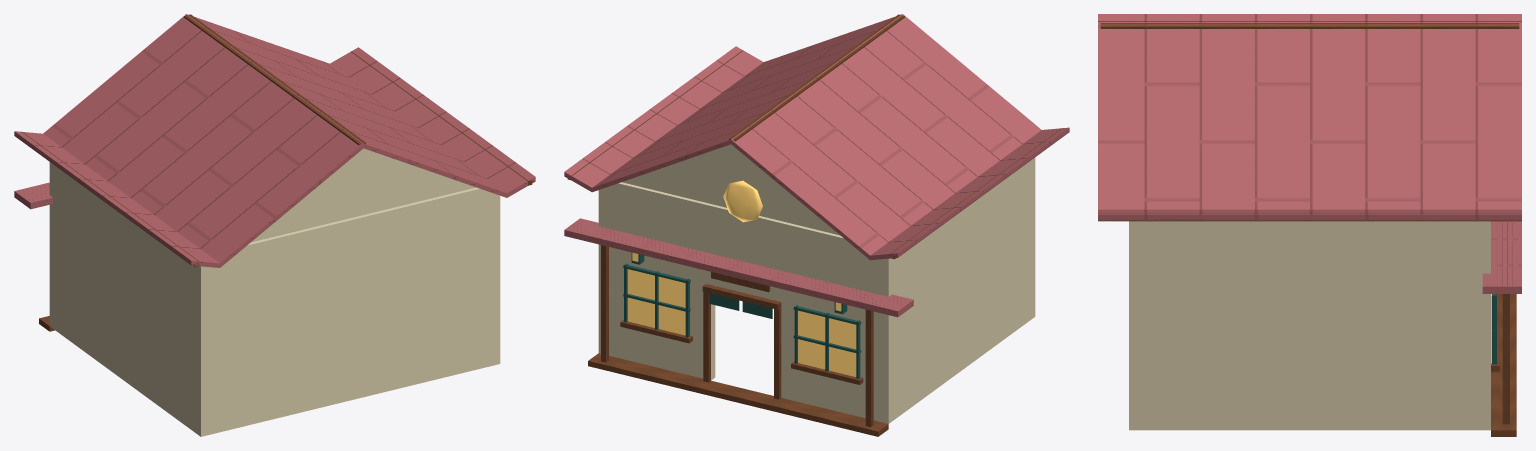
Rendered from blossom_bistro_exterior_lod1.glb.
The picture shows the model from 3 angles, left to right: view 1: azimuth 30°, elevation 25°; view 2: azimuth 150°, elevation 25°; view 3: azimuth 270°, elevation 25°; orthographic projection. The views are drawn at different scales.
Parts seen in each view (by area): view 1: blossom_bistro_exterior_lod1.004; view 2: blossom_bistro_exterior_lod1.004; view 3: blossom_bistro_exterior_lod1.004.
Part boxes in pixels (x1,y1,x2,y2): blossom_bistro_exterior_lod1.004: (14, 14, 535, 436); blossom_bistro_exterior_lod1.004: (564, 14, 1069, 436); blossom_bistro_exterior_lod1.004: (1098, 14, 1521, 436).
Size of the model in its own units: 9.2 by 6.94 by 8.2.
Materials: 1 (1 with a texture image).
